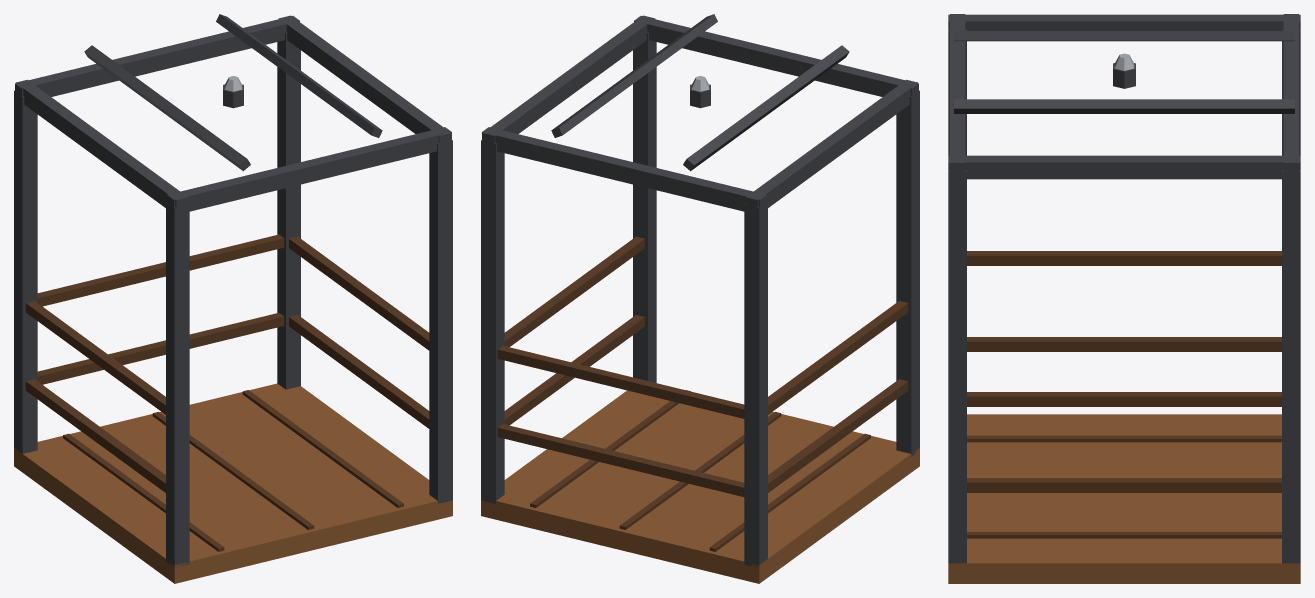
File: mine_lift_cage.glb
The picture shows the model from 3 angles, left to right: view 1: azimuth 30°, elevation 25°; view 2: azimuth 150°, elevation 25°; view 3: azimuth 270°, elevation 25°; orthographic projection. The views are drawn at different scales.
Visible parts, largest first — view 1: mine_lift_cage; view 2: mine_lift_cage; view 3: mine_lift_cage.
Part boxes in pixels (box(x1,y1,x2,y2)): mine_lift_cage: box(14, 14, 452, 583); mine_lift_cage: box(481, 14, 919, 583); mine_lift_cage: box(948, 14, 1300, 583).
Size of the model in its own units: 1.86 by 2.64 by 1.86.
